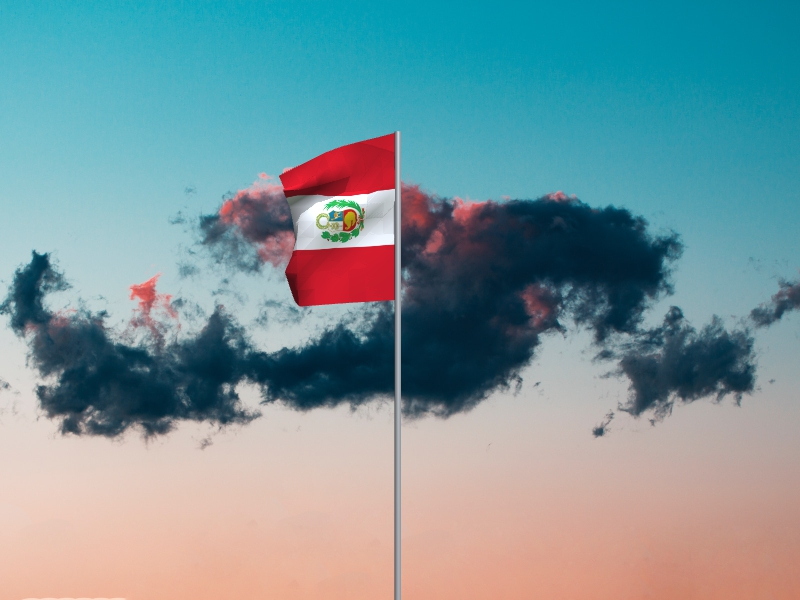pe: (279, 134, 395, 307)
